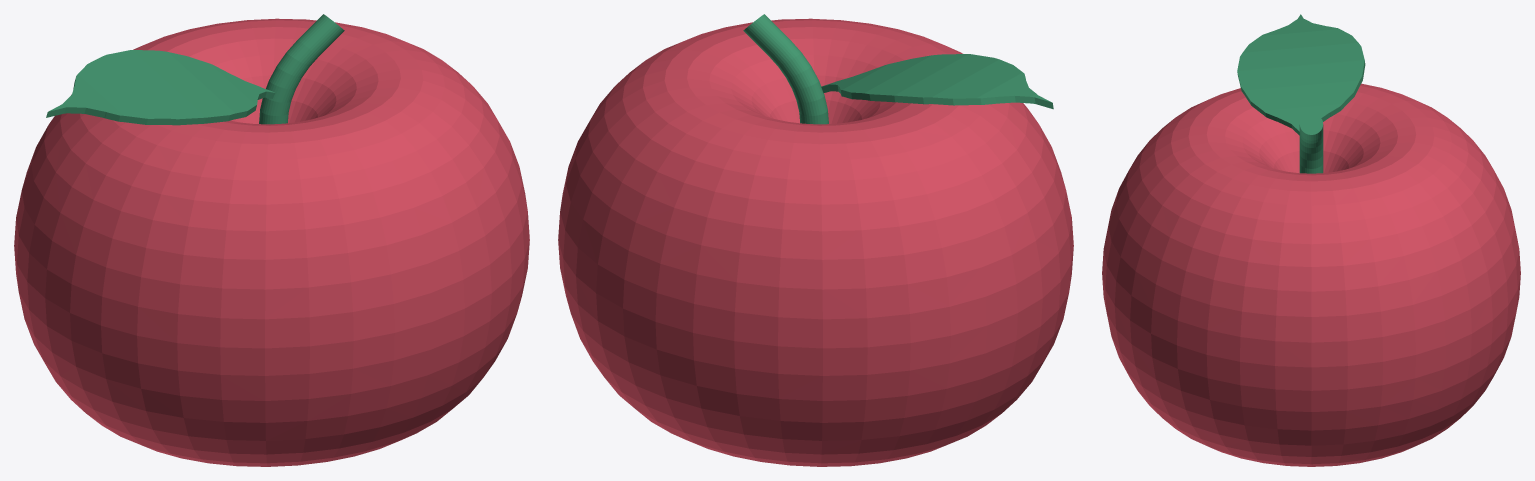
Rendered from apple.glb.
3 renders of one model, left to right at view 1: azimuth 30°, elevation 25°; view 2: azimuth 150°, elevation 25°; view 3: azimuth 270°, elevation 25°, orthographic. The views are drawn at different scales.
Parts seen in each view (by area): view 1: Mesh_Mesh_head_geo.001_lambert2SG.001; view 2: Mesh_Mesh_head_geo.001_lambert2SG.001; view 3: Mesh_Mesh_head_geo.001_lambert2SG.001.
Boxes of the visible parts, box(x1,y1,x2,y2) form: Mesh_Mesh_head_geo.001_lambert2SG.001: box(14, 14, 529, 466); Mesh_Mesh_head_geo.001_lambert2SG.001: box(558, 14, 1073, 466); Mesh_Mesh_head_geo.001_lambert2SG.001: box(1102, 14, 1520, 466).
Size of the model in its own units: 0.07 by 0.055 by 0.065.
